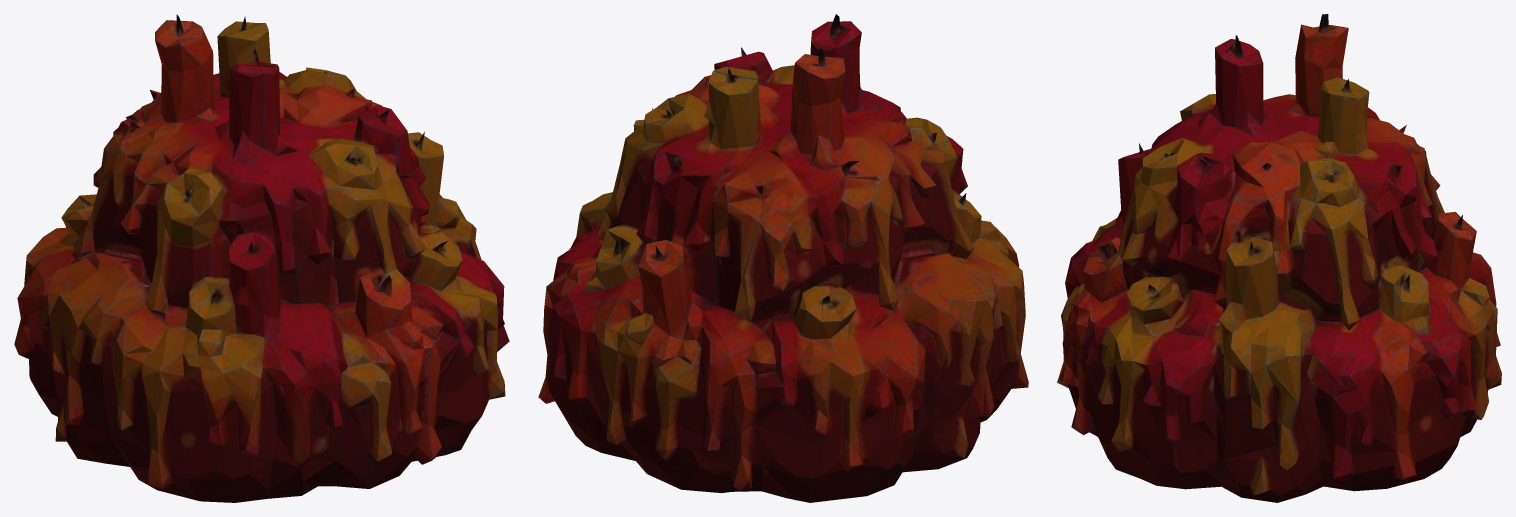
Rendered from wax_mound.glb.
The picture shows the model from 3 angles, left to right: view 1: azimuth 30°, elevation 25°; view 2: azimuth 150°, elevation 25°; view 3: azimuth 270°, elevation 25°; orthographic projection. The views are drawn at different scales.
Visible parts, largest first — view 1: tripo_node_a7ddfec7-72eb-4632-ae28-8e4e85c26db2.001; view 2: tripo_node_a7ddfec7-72eb-4632-ae28-8e4e85c26db2.001; view 3: tripo_node_a7ddfec7-72eb-4632-ae28-8e4e85c26db2.001.
Part boxes in pixels (bbox=[...]): tripo_node_a7ddfec7-72eb-4632-ae28-8e4e85c26db2.001: bbox=[14, 14, 509, 502]; tripo_node_a7ddfec7-72eb-4632-ae28-8e4e85c26db2.001: bbox=[538, 14, 1028, 502]; tripo_node_a7ddfec7-72eb-4632-ae28-8e4e85c26db2.001: bbox=[1057, 14, 1501, 502].
Size of the model in its own units: 0.9901 by 0.9424 by 0.9994.
Materials: 1 (1 with a texture image).
